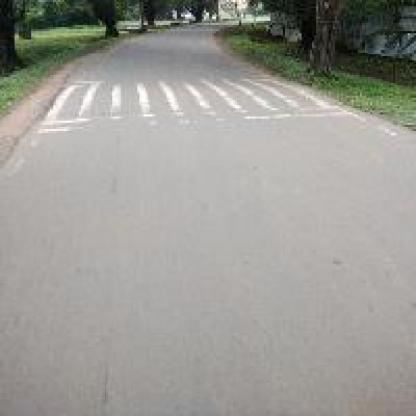Speed Bump: (36, 71, 354, 135)
